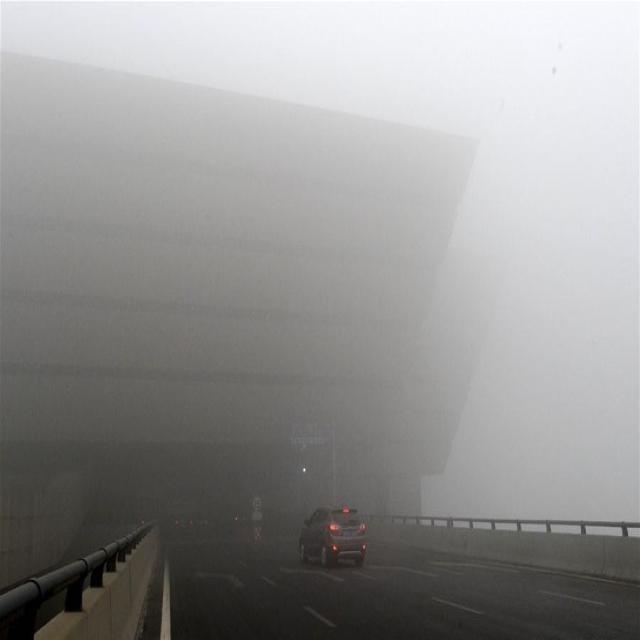car: (297, 504, 368, 568)
